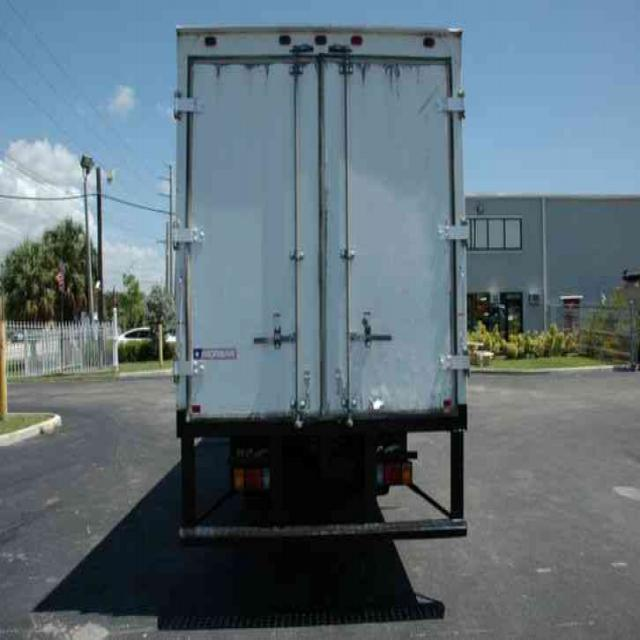truck: (172, 26, 468, 548)
